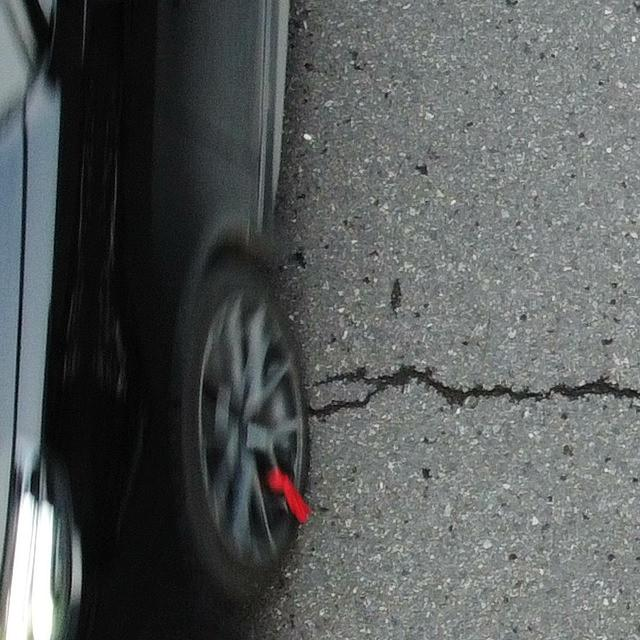TransverseCrack: (303, 367, 640, 419)
